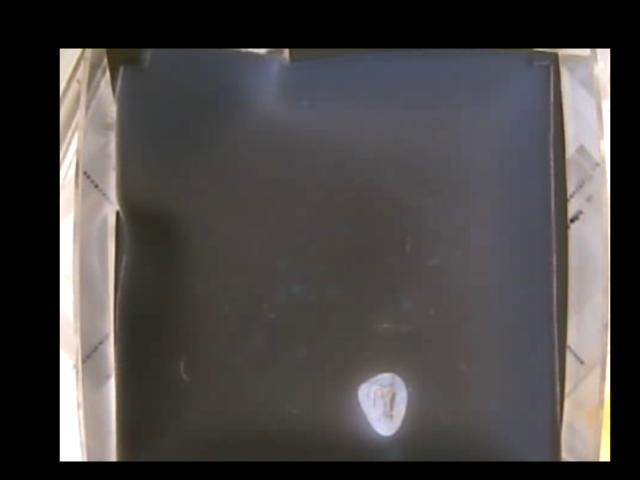Pebble: (357, 371, 407, 435)
